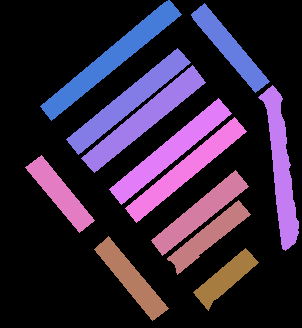parkingspot: (40, 0, 181, 120), (81, 65, 205, 172), (66, 48, 190, 154), (109, 98, 231, 204), (125, 117, 246, 222), (151, 170, 248, 255), (191, 3, 269, 92), (258, 85, 298, 250), (94, 236, 168, 320), (167, 200, 250, 274), (25, 155, 94, 232), (193, 248, 258, 310)
